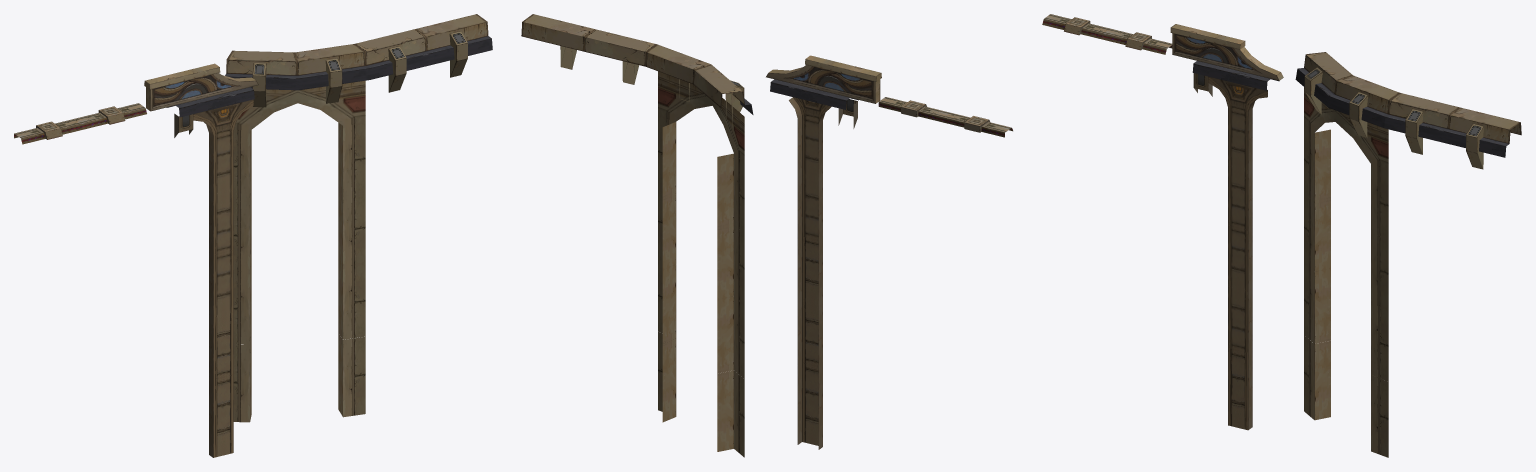
Rendered from 2_DG_PinJie_01.FBX.
The picture shows the model from 3 angles, left to right: view 1: azimuth 30°, elevation 25°; view 2: azimuth 150°, elevation 25°; view 3: azimuth 330°, elevation 25°; orthographic projection. The views are drawn at different scales.
Parts seen in each view (by area): view 1: 2_DG_PinJie_04, 2_DG_PinJie_02, 2_DG_PinJie_05, 2_DG_PinJie_01, 2_DG_PinJie_03; view 2: 2_DG_PinJie_04, 2_DG_PinJie_02, 2_DG_PinJie_05, 2_DG_PinJie_01, 2_DG_PinJie_03; view 3: 2_DG_PinJie_04, 2_DG_PinJie_02, 2_DG_PinJie_05, 2_DG_PinJie_01, 2_DG_PinJie_03.
Part boxes in pixels (left/top/right/bottom): 2_DG_PinJie_04: left=225, top=44, right=369, bottom=422; 2_DG_PinJie_02: left=167, top=87, right=254, bottom=457; 2_DG_PinJie_05: left=355, top=14, right=492, bottom=92; 2_DG_PinJie_01: left=144, top=63, right=258, bottom=111; 2_DG_PinJie_03: left=14, top=103, right=146, bottom=144; 2_DG_PinJie_04: left=645, top=44, right=753, bottom=457; 2_DG_PinJie_02: left=770, top=79, right=858, bottom=449; 2_DG_PinJie_05: left=521, top=14, right=656, bottom=84; 2_DG_PinJie_01: left=766, top=55, right=881, bottom=103; 2_DG_PinJie_03: left=878, top=97, right=1012, bottom=137; 2_DG_PinJie_04: left=1295, top=52, right=1399, bottom=457; 2_DG_PinJie_02: left=1192, top=61, right=1279, bottom=430; 2_DG_PinJie_05: left=1384, top=93, right=1521, bottom=169; 2_DG_PinJie_01: left=1170, top=24, right=1283, bottom=80; 2_DG_PinJie_03: left=1042, top=14, right=1172, bottom=54.
Bounding box in the file's own units: 2491 × 1957 × 384.
